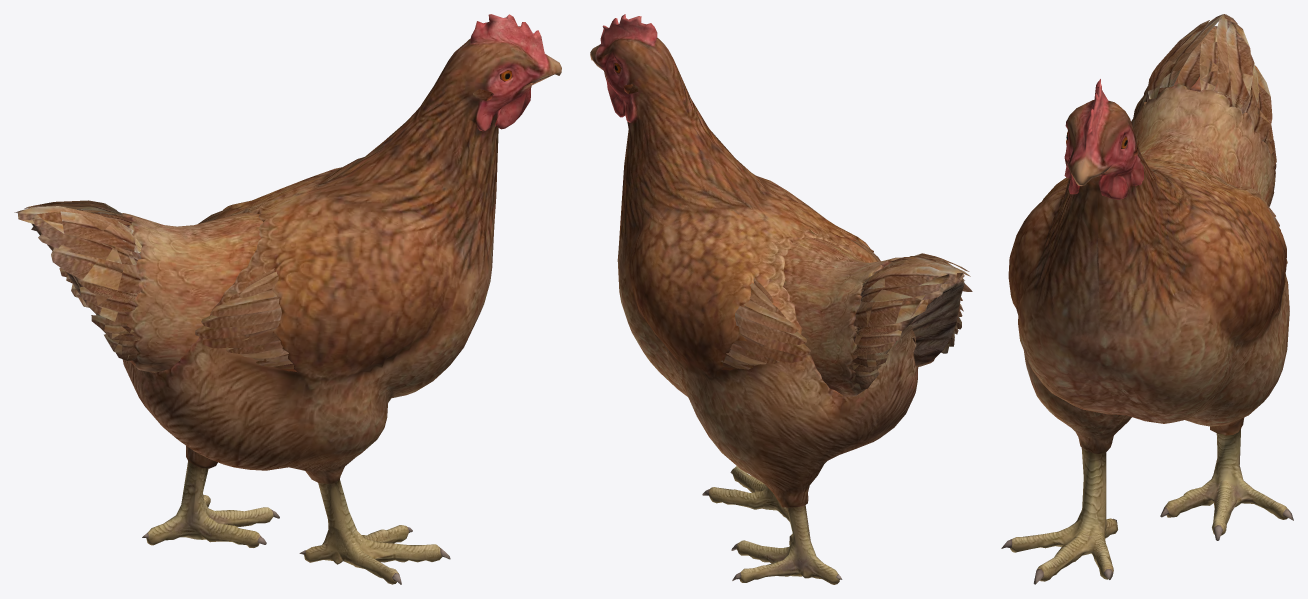
File: hen.glb
3 renders of one model, left to right at view 1: azimuth 30°, elevation 25°; view 2: azimuth 150°, elevation 25°; view 3: azimuth 270°, elevation 25°, orthographic. The views are drawn at different scales.
Parts seen in each view (by area): view 1: node_id53_0; view 2: node_id53_0; view 3: node_id53_0.
Boxes of the visible parts, bbox=[...] form: node_id53_0: bbox=[14, 14, 561, 584]; node_id53_0: bbox=[590, 14, 972, 584]; node_id53_0: bbox=[1001, 14, 1293, 584].
Size of the model in its own units: 1.05 by 1.07 by 0.5178.
1 material, 1 textured.
